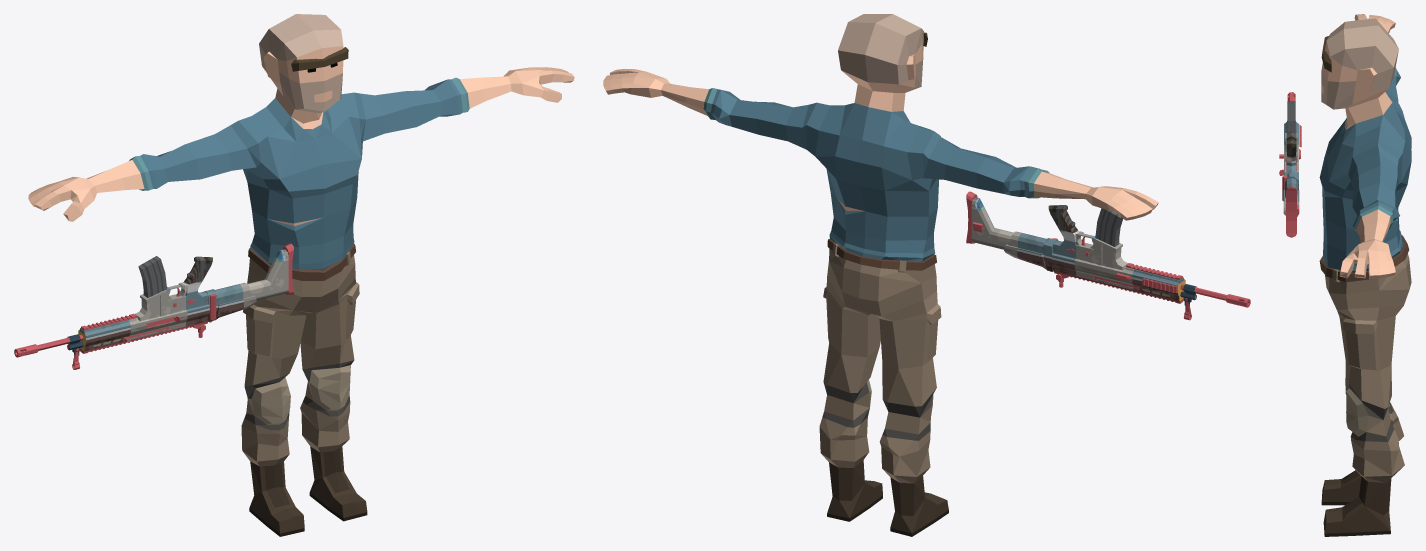
Rendered from MaleMercenary.gltf.
3 renders of one model, left to right at view 1: azimuth 30°, elevation 25°; view 2: azimuth 150°, elevation 25°; view 3: azimuth 270°, elevation 25°, orthographic. The views are drawn at different scales.
Parts seen in each view (by area): view 1: Character_MercenaryMale_01, SM_Wep_Rifle_Assault_01, SM_Wep_Rifle_Assault_Stock_01, SM_Wep_Rifle_Assault_Mag_01; view 2: Character_MercenaryMale_01, SM_Wep_Rifle_Assault_01, SM_Wep_Rifle_Assault_Stock_01, SM_Wep_Rifle_Assault_Mag_01; view 3: Character_MercenaryMale_01, SM_Wep_Rifle_Assault_01, SM_Wep_Rifle_Assault_Stock_01, SM_Wep_Rifle_Assault_Mag_01.
Part boxes in pixels (x1,y1,x2,y2): Character_MercenaryMale_01: (28,14,574,536); SM_Wep_Rifle_Assault_01: (37,256,217,355); SM_Wep_Rifle_Assault_Stock_01: (209,243,293,320); SM_Wep_Rifle_Assault_Mag_01: (138,256,166,297); Character_MercenaryMale_01: (603,14,1158,536); SM_Wep_Rifle_Assault_01: (1043,205,1227,305); SM_Wep_Rifle_Assault_Stock_01: (966,191,1058,269); SM_Wep_Rifle_Assault_Mag_01: (1095,208,1122,246); Character_MercenaryMale_01: (1319,14,1411,536); SM_Wep_Rifle_Assault_01: (1279,121,1301,189); SM_Wep_Rifle_Assault_Stock_01: (1282,175,1299,237); SM_Wep_Rifle_Assault_Mag_01: (1287,101,1295,132).
Size of the model in its own units: 225 by 179 by 43.93.
Materials: 2 (2 with a texture image).
